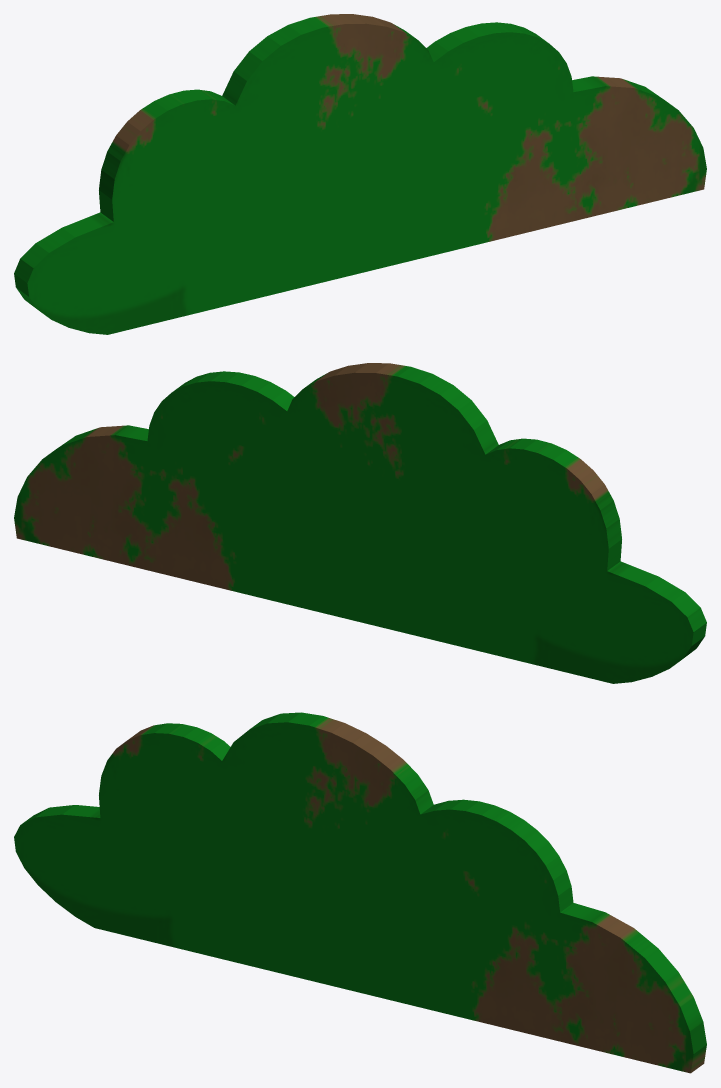
The model's file is Arbusto1Junto.fbx.
3 renders of one model, top to bottom at view 1: azimuth 30°, elevation 25°; view 2: azimuth 150°, elevation 25°; view 3: azimuth 330°, elevation 25°, orthographic.
Parts seen in each view (by area): view 1: arbusto 1; view 2: arbusto 1; view 3: arbusto 1.
Part boxes in pixels (<box>): arbusto 1: <box>14,14,706,334</box>; arbusto 1: <box>14,363,706,683</box>; arbusto 1: <box>14,712,706,1073</box>.
Size of the model in its own units: 520 by 186 by 17.73.
